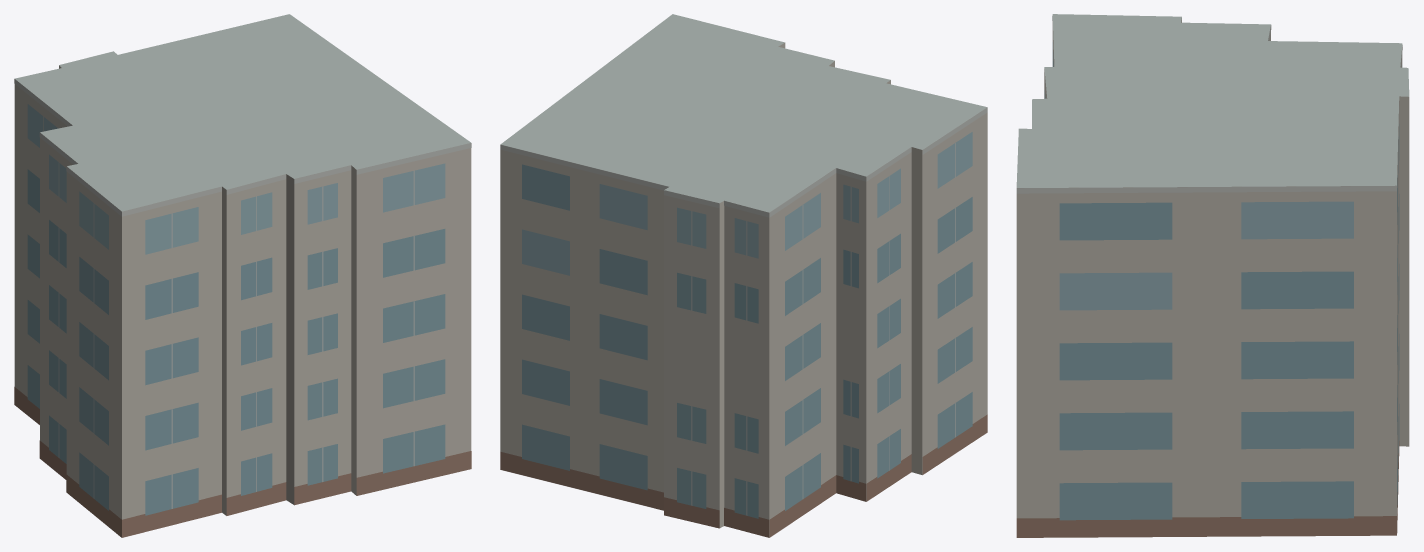
The model's file is survey-upis-32877033.glb.
3 renders of one model, left to right at view 1: azimuth 30°, elevation 25°; view 2: azimuth 150°, elevation 25°; view 3: azimuth 270°, elevation 25°, orthographic. The views are drawn at different scales.
Visible parts, largest first — view 1: survey-upis-32877033.tmp; view 2: survey-upis-32877033.tmp; view 3: survey-upis-32877033.tmp.
Part boxes in pixels (left/top/right/bottom): survey-upis-32877033.tmp: left=14, top=14, right=471, bottom=537; survey-upis-32877033.tmp: left=500, top=14, right=987, bottom=537; survey-upis-32877033.tmp: left=1016, top=14, right=1409, bottom=537.
Bounding box in the file's own units: 16.72 × 15.65 × 15.94.
